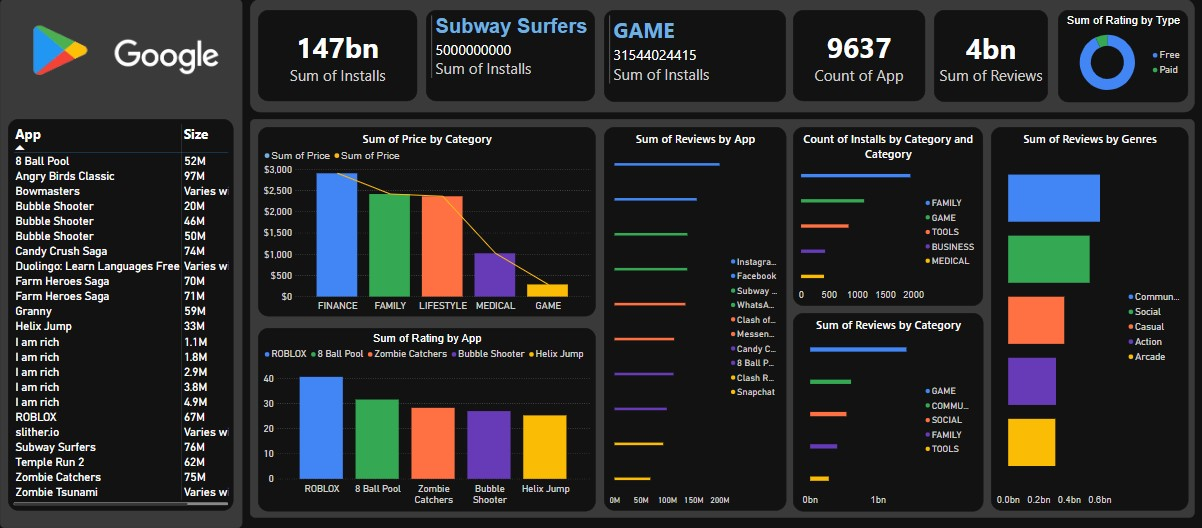

What the dashboard file says about the page in this screenshot:
{"tool":"powerbi","page":{"name":"Dashboard","canvas":[3428,1509],"ordinal":0},"visuals":[{"type":"textbox","box":[714.3,0,2694.3,322.9],"z":0},{"type":"textbox","box":[0,0,691.4,1508.6],"z":1000},{"type":"textbox","box":[714.3,342.9,2694.3,1137.1],"z":2000},{"type":"lineStackedColumnComboChart","title":"Sum of Price by Category","fields":{"Category":["google_play_store_dataset.Category"],"Y":["Sum(google_play_store_dataset.Price)"],"Y2":["Sum(google_play_store_dataset.Price)"]},"box":[737.1,365.7,962.9,540],"z":3000},{"type":"columnChart","title":"Sum of Rating by App ","fields":{"Category":["google_play_store_dataset.App"],"Y":["Sum(google_play_store_dataset.Rating)"],"Series":["google_play_store_dataset.App"]},"box":[737.1,937.1,962.9,522.9],"z":4000},{"type":"donutChart","fields":{"Category":["google_play_store_dataset.Type"],"Y":["Sum(google_play_store_dataset.Rating)"]},"box":[3017.1,31.4,371.4,262.9],"z":5000},{"type":"clusteredBarChart","title":"Sum of Reviews by App ","fields":{"Category":["google_play_store_dataset.App"],"Y":["Sum(google_play_store_dataset.Reviews)"],"Series":["google_play_store_dataset.App"]},"box":[1722.9,365.7,520,1094.3],"z":6000},{"type":"clusteredBarChart","title":"Sum of Reviews by Category ","fields":{"Category":["google_play_store_dataset.Category"],"Y":["Sum(google_play_store_dataset.Reviews)"],"Series":["google_play_store_dataset.Category"]},"box":[2262.9,894.3,542.9,565.7],"z":7000},{"type":"barChart","title":"Sum of Reviews by Genres","fields":{"Category":["google_play_store_dataset.Genres"],"Y":["Sum(google_play_store_dataset.Reviews)"],"Series":["google_play_store_dataset.Genres"]},"box":[2825.7,365.7,562.9,1094.3],"z":8000},{"type":"tableEx","fields":{"Values":["google_play_store_dataset.App","google_play_store_dataset.Size"]},"box":[22.9,342.9,642.9,1117.1],"z":9000},{"type":"clusteredBarChart","fields":{"Category":["google_play_store_dataset.Category"],"Y":["google_play_store_dataset.Count of Installs"],"Series":["google_play_store_dataset.Category"]},"box":[2261.6,365,541.9,510.5],"z":10000},{"type":"card","fields":{"Values":["Sum(google_play_store_dataset.Installs)"]},"box":[736.9,32.5,454.5,259.7],"z":11000},{"type":"card","fields":{"Values":["Count(google_play_store_dataset.App)"]},"box":[2262.6,32.5,376.6,259.7],"z":12000},{"type":"card","fields":{"Values":["Sum(google_play_store_dataset.Reviews)"]},"box":[2663.7,31.4,325.1,262.4],"z":13000},{"type":"multiRowCard","fields":{"Values":["Sum(google_play_store_dataset.Installs)","google_play_store_dataset.App"]},"box":[1214.9,31.4,482,259.5],"z":13001},{"type":"multiRowCard","fields":{"Values":["Sum(google_play_store_dataset.Installs)","google_play_store_dataset.Category"]},"box":[1722.6,31.4,519,262.4],"z":13002},{"type":"image","box":[0,0,344.1,292.2],"z":13003},{"type":"image","box":[285.7,0,379.8,298.7],"z":13004}]}

Visuals, with their boxes in screenshot pixels (x1, y1, x2, y2), scaled from the page's 3428x1509 canvas onto the 1202x528 screenshot:
textbox: (left=250, top=0, right=1195, bottom=113)
textbox: (left=0, top=0, right=242, bottom=527)
textbox: (left=250, top=120, right=1195, bottom=518)
"Sum of Price by Category" lineStackedColumnComboChart: (left=258, top=128, right=596, bottom=317)
"Sum of Rating by App " columnChart: (left=258, top=328, right=596, bottom=511)
donutChart - google_play_store_dataset.Type x Sum(google_play_store_dataset.Rating): (left=1058, top=11, right=1188, bottom=103)
"Sum of Reviews by App " clusteredBarChart: (left=604, top=128, right=786, bottom=511)
"Sum of Reviews by Category " clusteredBarChart: (left=793, top=313, right=984, bottom=511)
"Sum of Reviews by Genres" barChart: (left=991, top=128, right=1188, bottom=511)
tableEx - google_play_store_dataset.App x google_play_store_dataset.Size: (left=8, top=120, right=233, bottom=511)
clusteredBarChart - google_play_store_dataset.Category x google_play_store_dataset.Count of Installs: (left=793, top=128, right=983, bottom=306)
card - Sum(google_play_store_dataset.Installs): (left=258, top=11, right=418, bottom=102)
card - Count(google_play_store_dataset.App): (left=793, top=11, right=925, bottom=102)
card - Sum(google_play_store_dataset.Reviews): (left=934, top=11, right=1048, bottom=103)
multiRowCard - Sum(google_play_store_dataset.Installs) x google_play_store_dataset.App: (left=426, top=11, right=595, bottom=102)
multiRowCard - Sum(google_play_store_dataset.Installs) x google_play_store_dataset.Category: (left=604, top=11, right=786, bottom=103)
image: (left=0, top=0, right=121, bottom=102)
image: (left=100, top=0, right=233, bottom=105)
